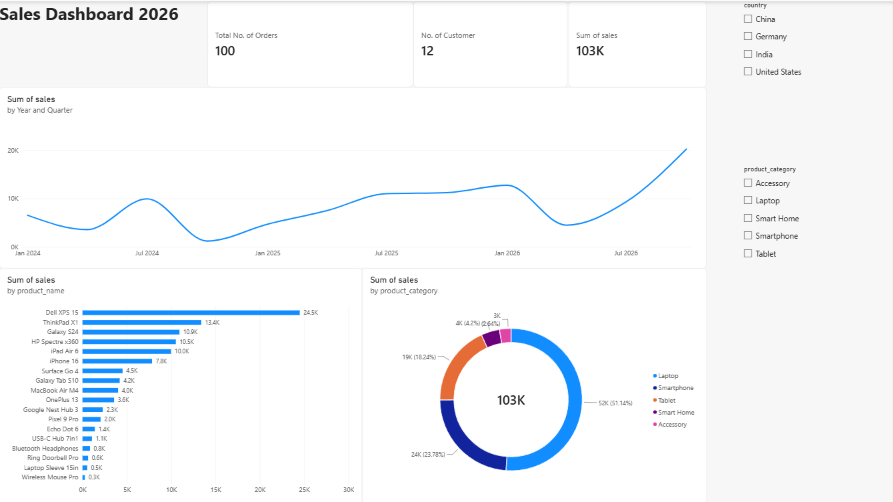

The dashboard page shown, as its layout file describes it:
{"tool":"powerbi","page":{"name":"Page 1","canvas":[1920,1080],"ordinal":0},"visuals":[{"type":"barChart","fields":{"Category":["orders.product_name"],"Y":["Sum(orders.sales)"]},"box":[0,572.6,779.5,507.4],"z":0},{"type":"donutChart","fields":{"Category":["orders.product_category"],"Y":["Sum(orders.sales)"]},"box":[779.5,572.6,739.8,507.4],"z":1000},{"type":"cardVisual","fields":{"Data":["CountNonNull(orders.order_id)"]},"box":[447.9,0,442.2,184.3],"z":2000},{"type":"lineChart","fields":{"Category":["orders.order_date.Variation.Date Hierarchy.Year","orders.order_date.Variation.Date Hierarchy.Quarter","orders.order_date.Variation.Date Hierarchy.Month","orders.order_date.Variation.Date Hierarchy.Day"],"Y":["Sum(orders.sales)"]},"box":[0,184.3,1519.4,388.3],"z":3000},{"type":"cardVisual","fields":{"Data":["Count(orders.customer_id)"]},"box":[890.1,0,331.7,184.3],"z":3001},{"type":"slicer","fields":{"Values":["customers.country"]},"box":[1593.1,0,326,309],"z":3002},{"type":"slicer","fields":{"Values":["orders.product_category"]},"box":[1593.1,351.5,326,221.1],"z":3003},{"type":"cardVisual","fields":{"Data":["Sum(orders.sales)"]},"box":[1221.7,0,297.6,184.3],"z":3004},{"type":"textbox","box":[0,0,448,184],"z":3005}]}

Visuals, with their boxes in screenshot pixels (x1, y1, x2, y2), scaled from the page's 1920x1080 canvas onto the 893x502 screenshot:
barChart - orders.product_name x Sum(orders.sales): detection(0, 266, 363, 501)
donutChart - orders.product_category x Sum(orders.sales): detection(363, 266, 707, 501)
cardVisual - CountNonNull(orders.order_id): detection(208, 0, 414, 86)
lineChart - orders.order_date.Variation.Date Hierarchy.Year x orders.order_date.Variation.Date Hierarchy.Quarter: detection(0, 86, 707, 266)
cardVisual - Count(orders.customer_id): detection(414, 0, 568, 86)
slicer - customers.country: detection(741, 0, 892, 144)
slicer - orders.product_category: detection(741, 163, 892, 266)
cardVisual - Sum(orders.sales): detection(568, 0, 707, 86)
textbox: detection(0, 0, 208, 86)
